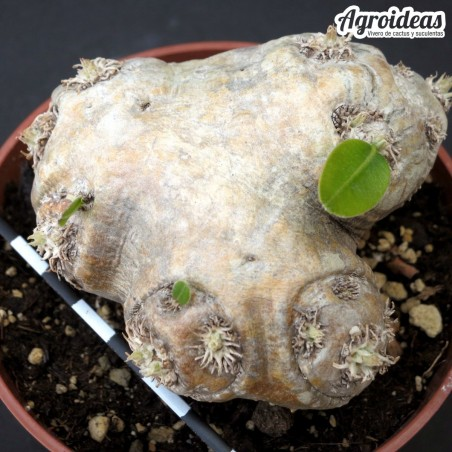Pachypodium brevicaule: (30, 37, 440, 409)
